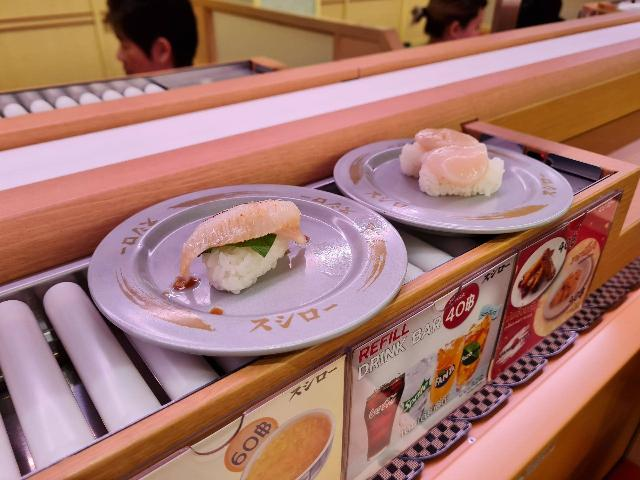janwhite: (73, 146, 421, 348), (330, 129, 577, 233)
